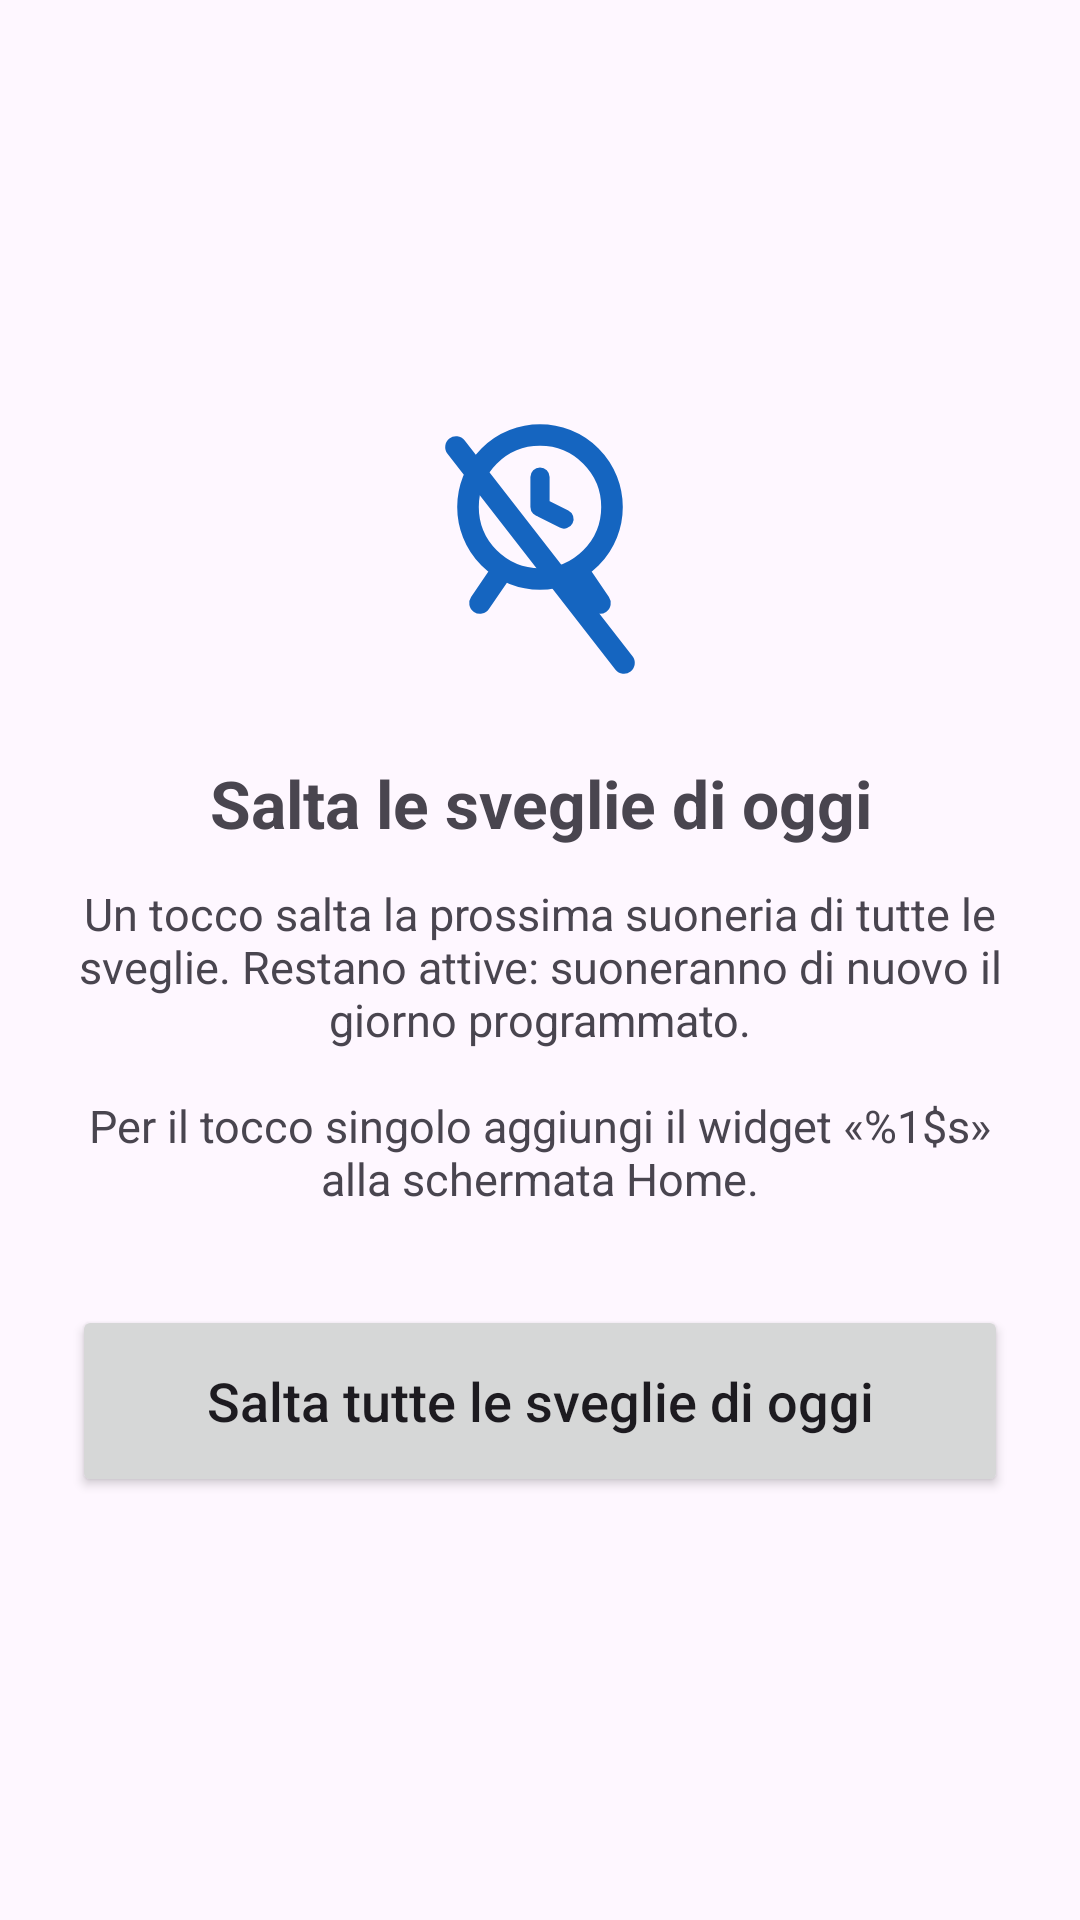

Named icons in this screenshot (1080x1920) and their centers, point (x, y):
alarm off: point (540, 549)
